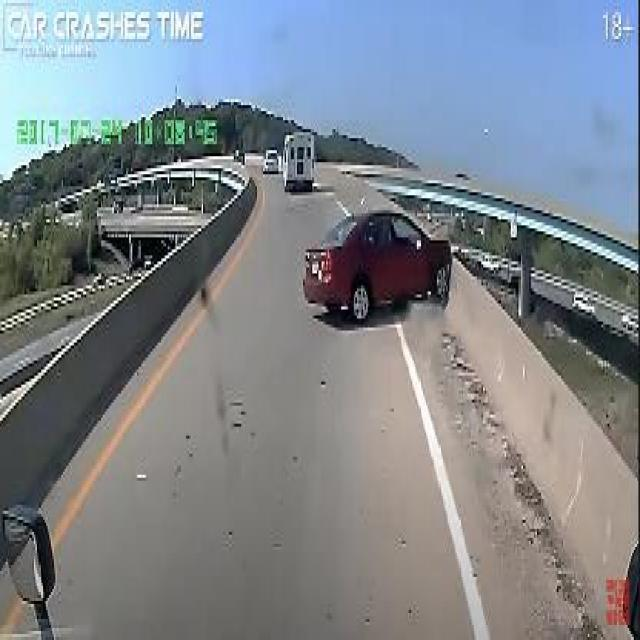accident: (298, 189, 484, 391)
